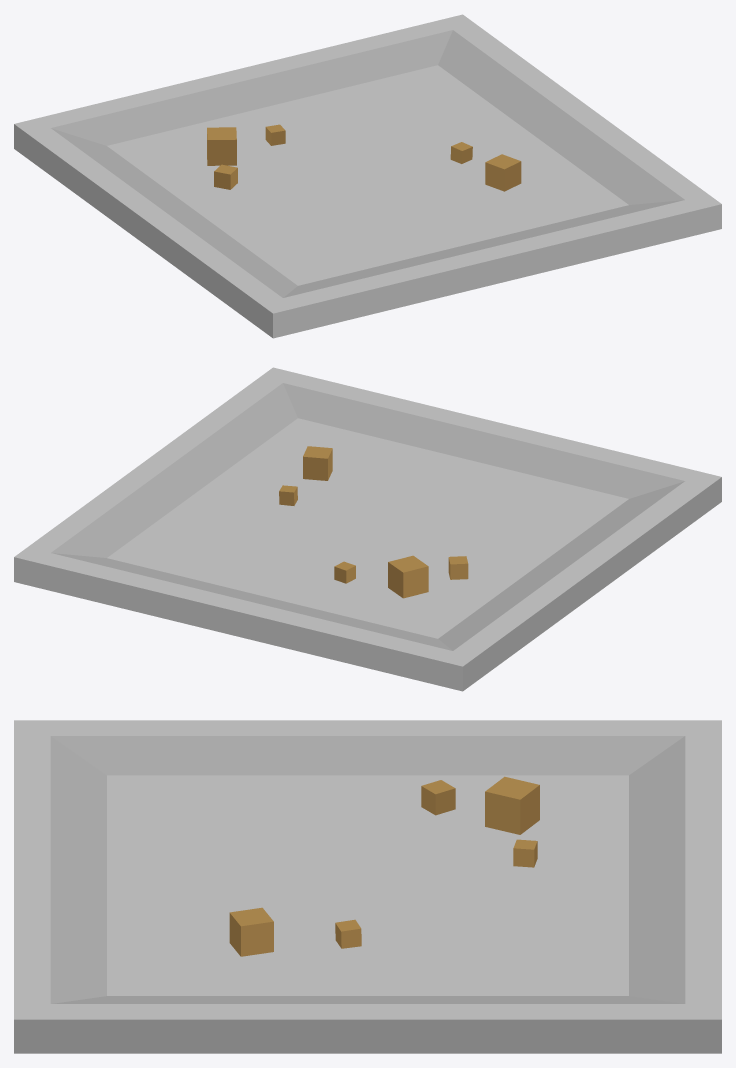
Rendered from Plate2.glb.
The picture shows the model from 3 angles, top to bottom: view 1: azimuth 30°, elevation 25°; view 2: azimuth 150°, elevation 25°; view 3: azimuth 270°, elevation 25°; orthographic projection. The views are drawn at different scales.
Visible parts, largest first — view 1: SI_Prop_Plate_02; view 2: SI_Prop_Plate_02; view 3: SI_Prop_Plate_02.
Boxes of the visible parts, x1=… form: SI_Prop_Plate_02: x1=14, y1=14, x2=721, y2=338; SI_Prop_Plate_02: x1=14, y1=367, x2=721, y2=691; SI_Prop_Plate_02: x1=14, y1=720, x2=721, y2=1053.
Bounding box in the file's own units: 0.00813 × 0.00068 × 0.00813.
1 material, 1 textured.
